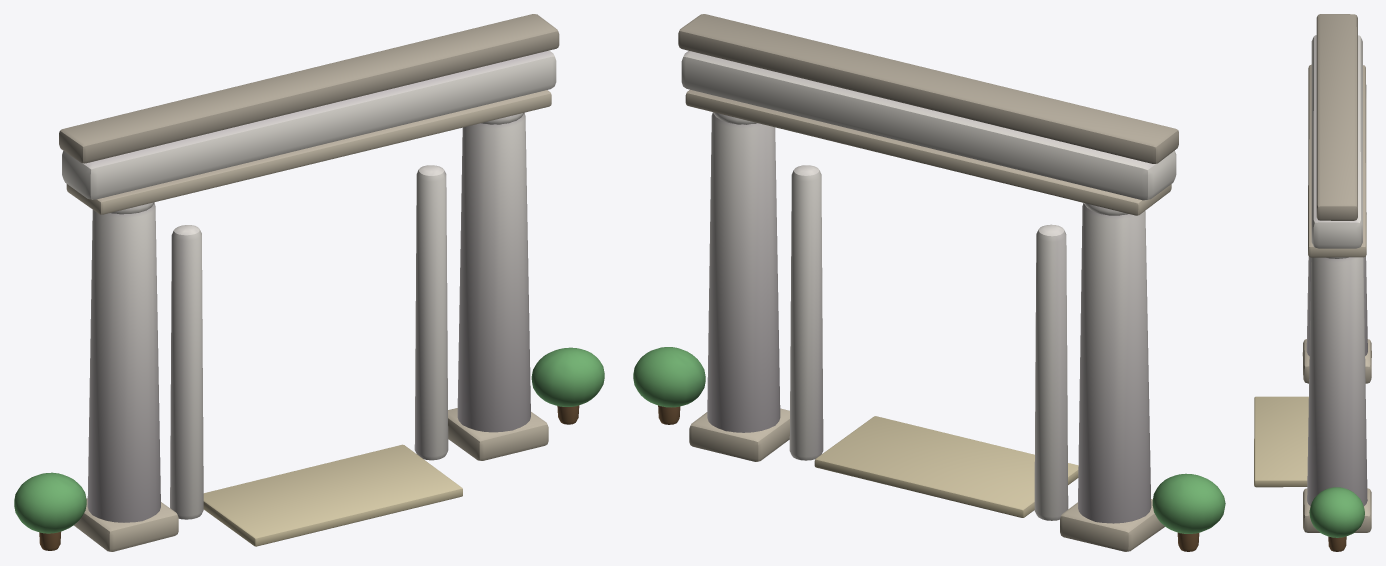
The picture shows the model from 3 angles, left to right: view 1: azimuth 30°, elevation 25°; view 2: azimuth 150°, elevation 25°; view 3: azimuth 270°, elevation 25°; orthographic projection. The views are drawn at different scales.
Parts seen in each view (by area): view 1: gate_5edcf090; view 2: gate_5edcf090; view 3: gate_5edcf090.
Part boxes in pixels (bbox=[...]): gate_5edcf090: bbox=[14, 14, 604, 551]; gate_5edcf090: bbox=[633, 14, 1225, 551]; gate_5edcf090: bbox=[1254, 14, 1371, 551].
Size of the model in its own units: 6.69 by 4.47 by 1.42.
